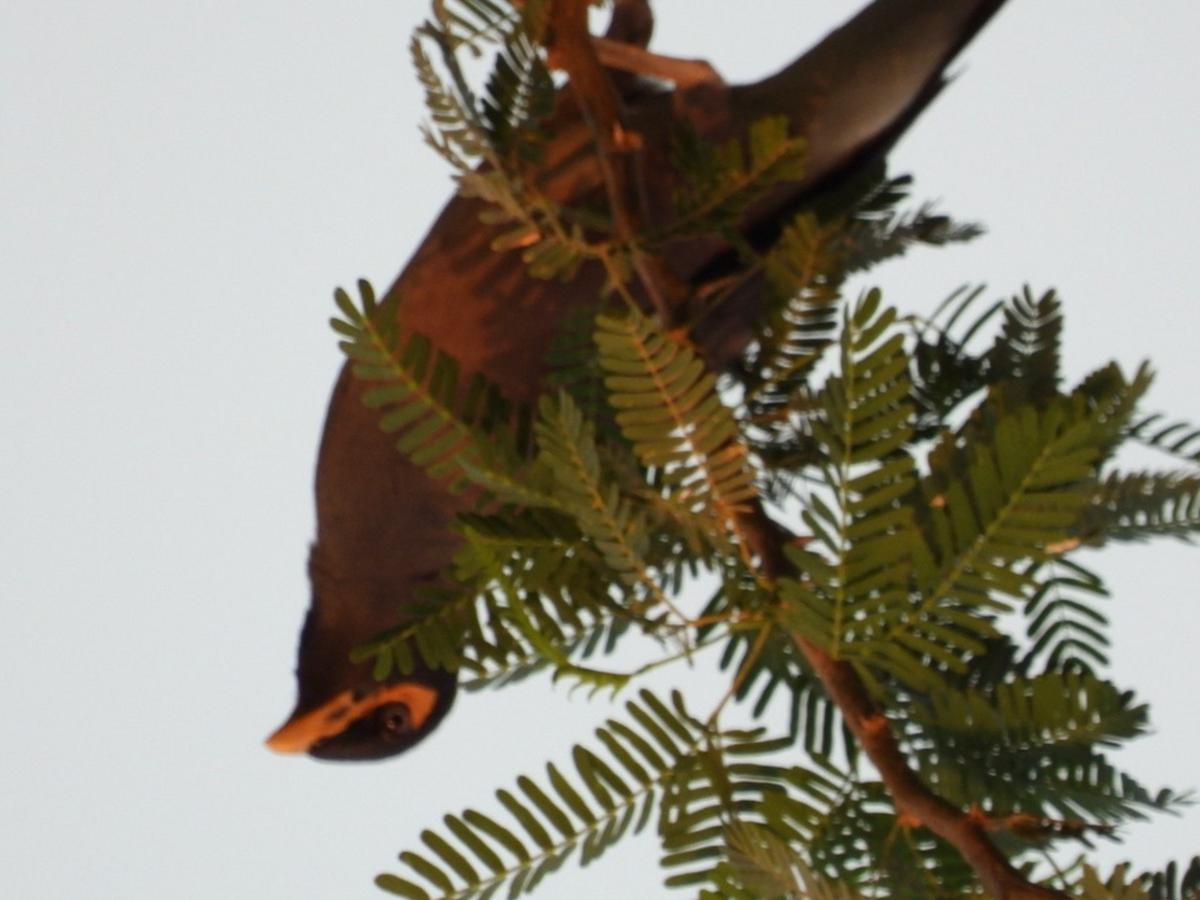myna: (254, 84, 891, 780)
